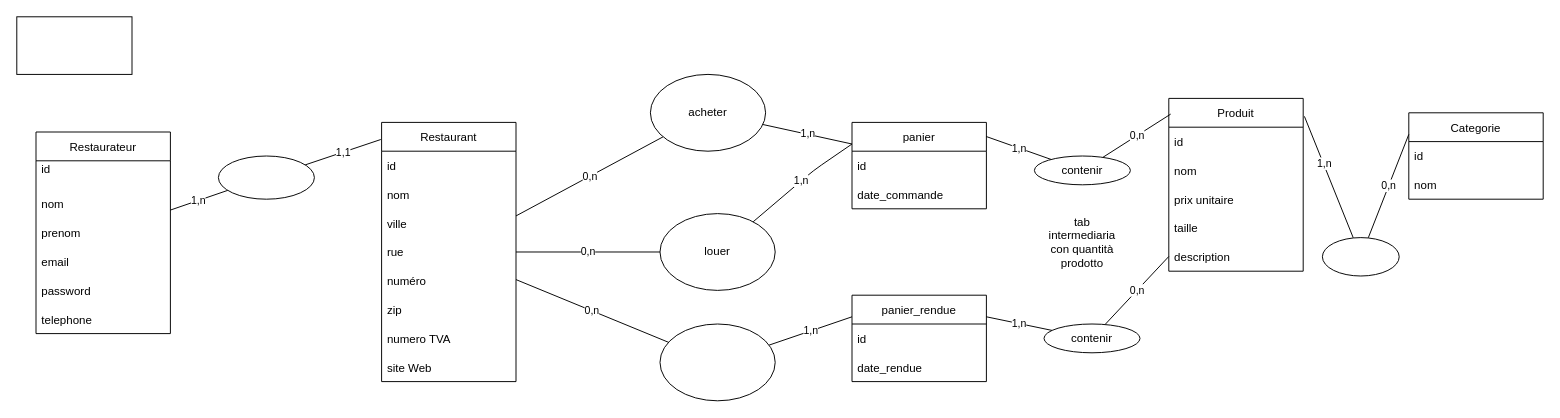
Image size: 1560x418. Some labels were removed from this diagram. Here are the shapes that lost their labels. From the top down, the centre of each, then its label:
(74,45): MCD
(265,177): possede
(1360,256): étre
(717,362): rendre
